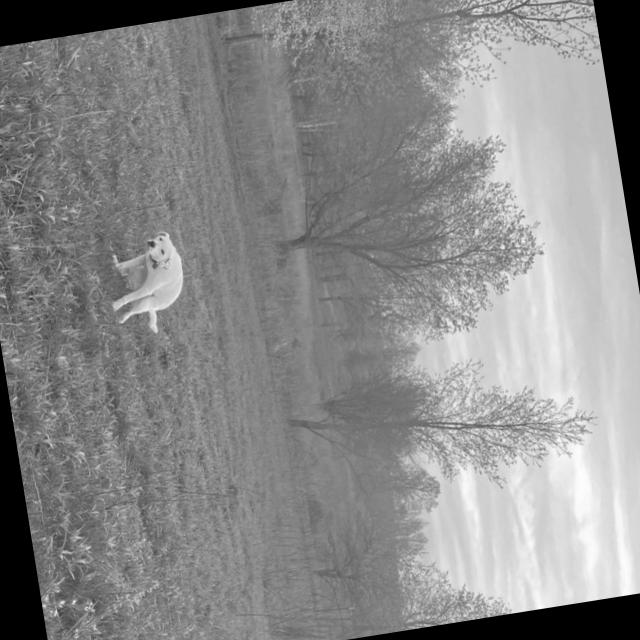squatting: (98, 226, 194, 343)
